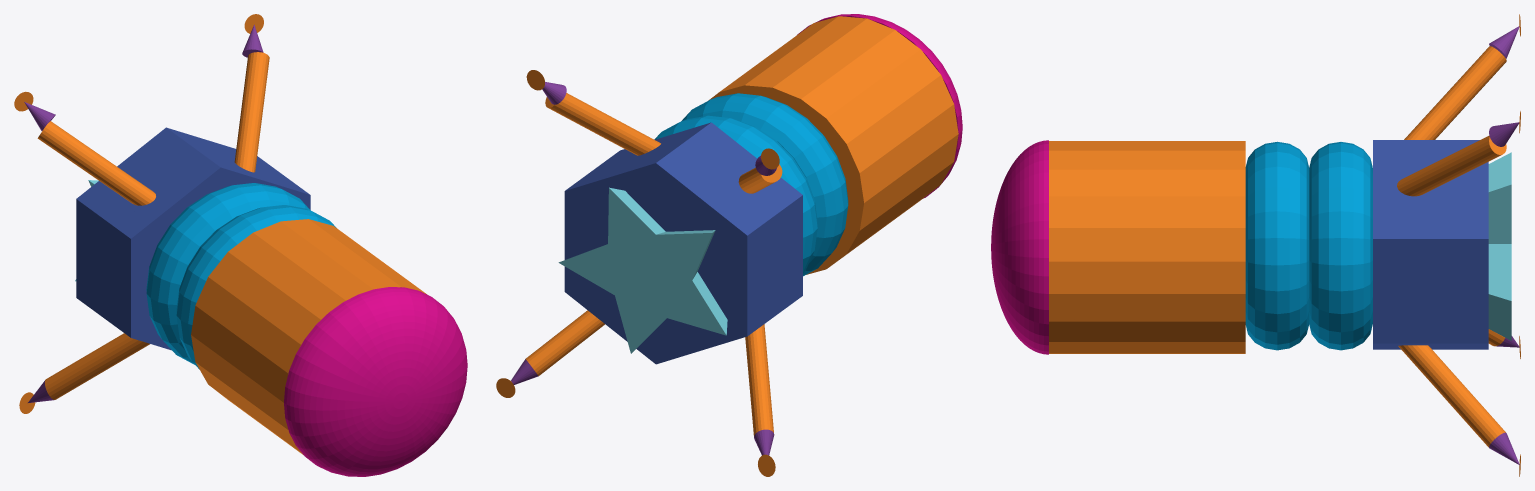
File: tinker.obj
3 views of the same model, side by side, from view 1: azimuth 30°, elevation 25°; view 2: azimuth 150°, elevation 25°; view 3: azimuth 270°, elevation 25° (orthographic). The views are drawn at different scales.
Parts seen in each view (by area): view 1: group_0_16089887, group_0_14093196, group_0_3888547, group_0_40919, group_0_8273816; view 2: group_0_16089887, group_0_3888547, group_0_7720667, group_0_40919, group_0_14093196, group_0_8273816; view 3: group_0_16089887, group_0_40919, group_0_3888547, group_0_14093196, group_0_7720667, group_0_8273816.
Boxes of the visible parts, box(x1,y1,x2,y2) form: group_0_16089887: box(14, 14, 426, 454); group_0_14093196: box(284, 287, 467, 476); group_0_3888547: box(76, 127, 310, 350); group_0_40919: box(146, 183, 336, 369); group_0_8273816: box(24, 24, 263, 402); group_0_16089887: box(496, 16, 958, 476); group_0_3888547: box(564, 122, 802, 364); group_0_7720667: box(558, 187, 727, 353); group_0_40919: box(654, 93, 848, 276); group_0_14093196: box(797, 14, 962, 198); group_0_8273816: box(511, 82, 776, 455); group_0_16089887: box(1049, 14, 1520, 476); group_0_40919: box(1245, 141, 1372, 350); group_0_3888547: box(1373, 140, 1488, 349); group_0_14093196: box(991, 140, 1048, 354); group_0_7720667: box(1488, 152, 1511, 340); group_0_8273816: box(1489, 26, 1519, 465).
Bounding box in the file's own units: 58.89 × 69.54 × 91.6.
